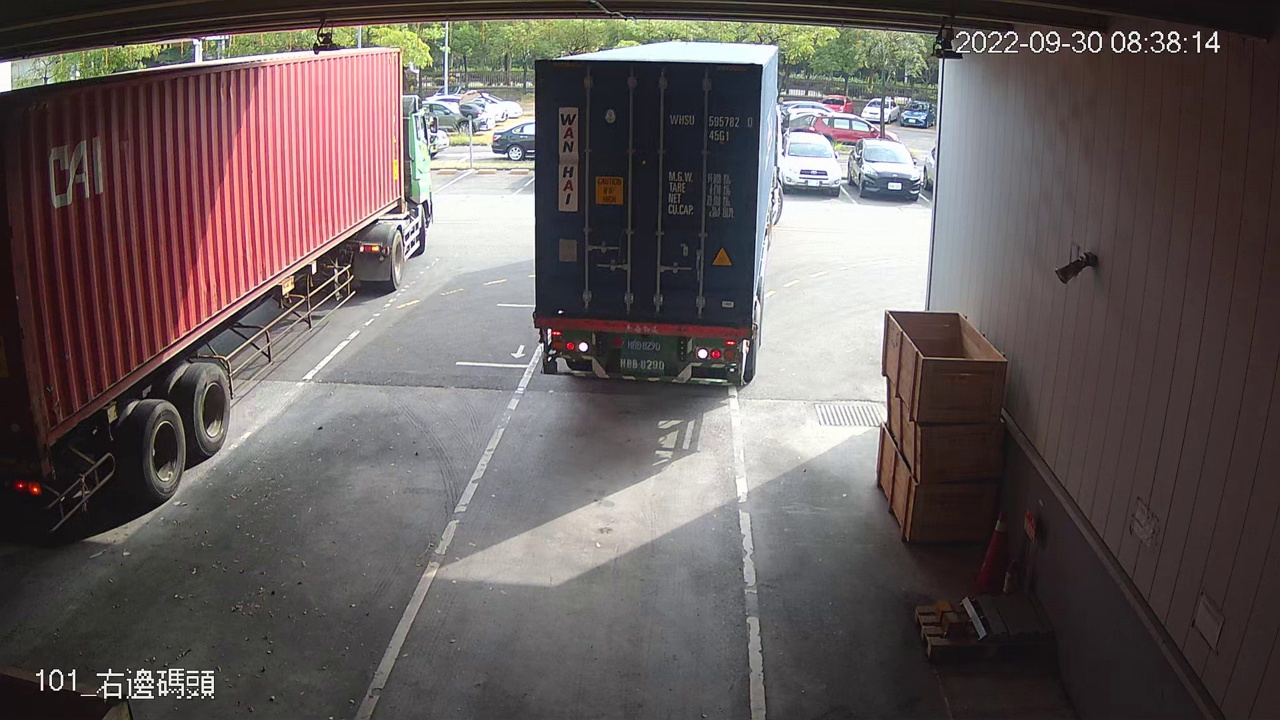container: (665, 105, 757, 147)
